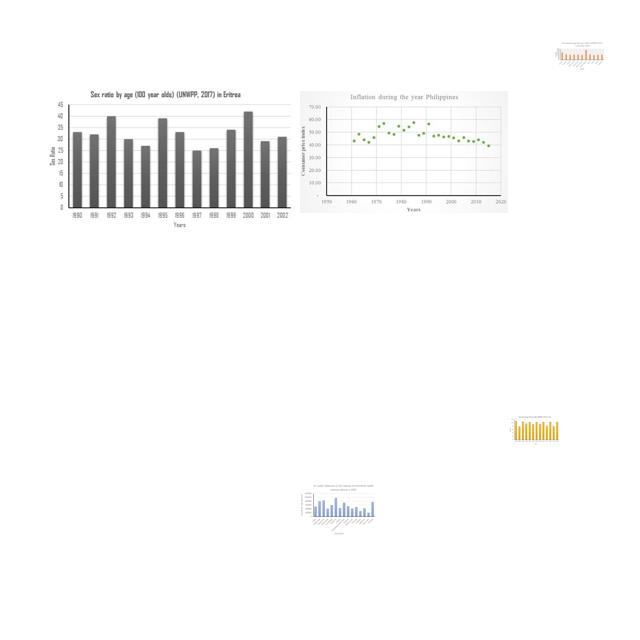Graph: (47, 89, 295, 232), (300, 91, 508, 213), (299, 482, 376, 536), (508, 415, 562, 446), (554, 41, 605, 71)
